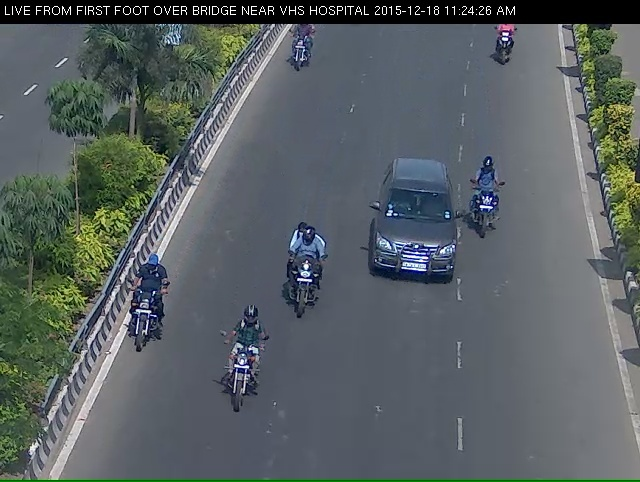Car: (364, 166, 459, 305)
Person: (276, 230, 333, 350), (209, 322, 263, 447), (115, 267, 162, 373), (471, 163, 506, 248), (283, 19, 315, 84), (488, 22, 517, 74)
